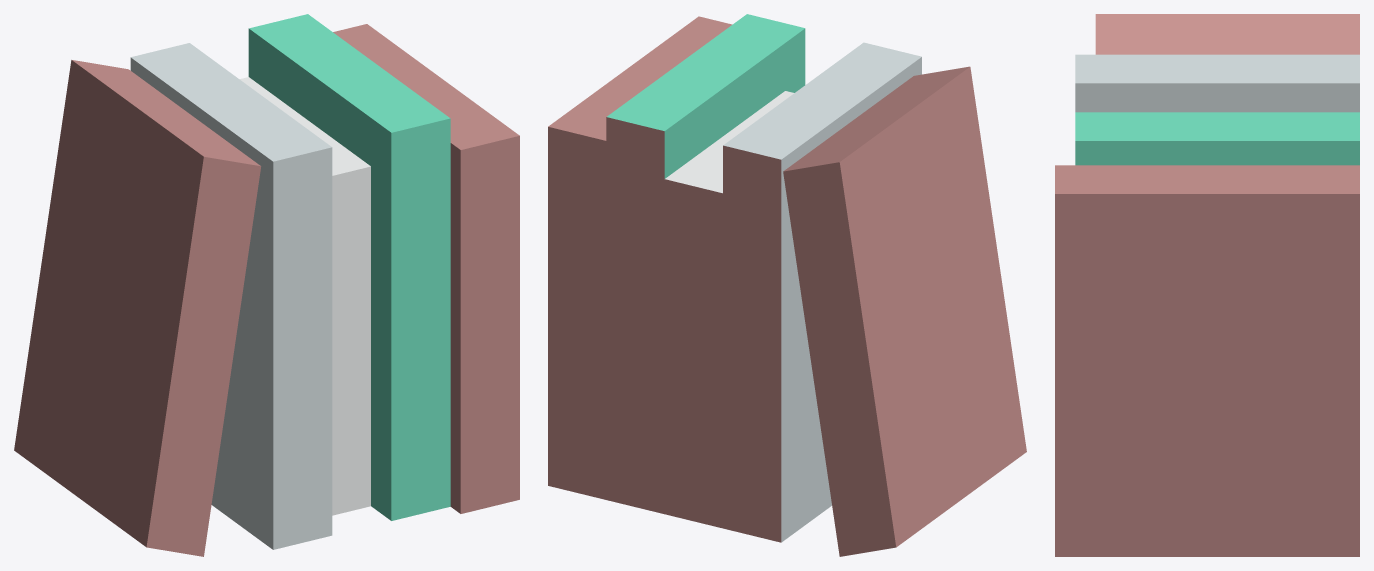
3 renders of one model, left to right at view 1: azimuth 30°, elevation 25°; view 2: azimuth 150°, elevation 25°; view 3: azimuth 270°, elevation 25°, orthographic.
Visible parts, largest first — view 1: books(Clone); view 2: books(Clone); view 3: books(Clone).
Boxes of the visible parts, x1,y1,x2,y2 form: books(Clone): (14,14,519,556); books(Clone): (548,14,1026,556); books(Clone): (1055,14,1359,556).
Bounding box in the file's own units: 0.24 × 0.26 × 0.18.
